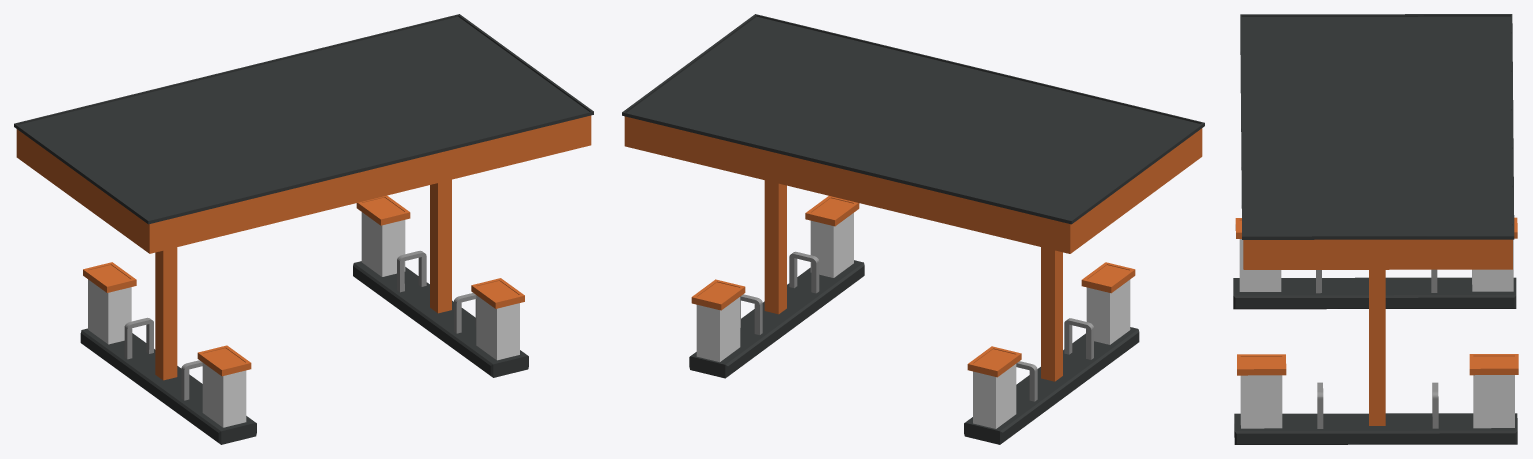
Rendered from posto.fbx.
3 views of the same model, side by side, from view 1: azimuth 30°, elevation 25°; view 2: azimuth 150°, elevation 25°; view 3: azimuth 270°, elevation 25° (orthographic).
Parts seen in each view (by area): view 1: PostoGasolina; view 2: PostoGasolina; view 3: PostoGasolina.
Boxes of the visible parts, x1,y1,x2,y2 form: PostoGasolina: (14, 14, 593, 444); PostoGasolina: (622, 14, 1204, 444); PostoGasolina: (1233, 14, 1518, 444).
Bounding box in the file's own units: 2296 × 1169 × 1245.
